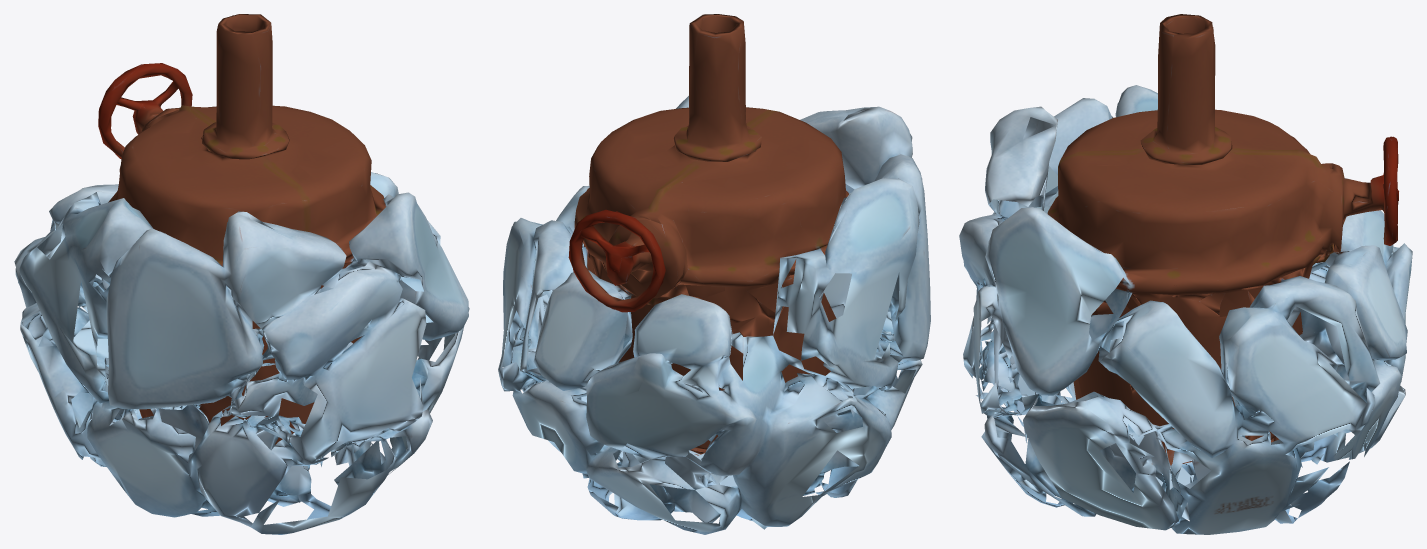
The model's file is led-skvazhina.glb.
3 renders of one model, left to right at view 1: azimuth 30°, elevation 25°; view 2: azimuth 150°, elevation 25°; view 3: azimuth 270°, elevation 25°, orthographic. The views are drawn at different scales.
Visible parts, largest first — view 1: geometry_0; view 2: geometry_0; view 3: geometry_0.
Part boxes in pixels (x1,y1,x2,y2): geometry_0: (14,14,469,534); geometry_0: (498,14,930,534); geometry_0: (959,14,1412,534).
Size of the model in its own units: 0.8214 by 0.9991 by 0.8599.
Materials: 1 (1 with a texture image).
